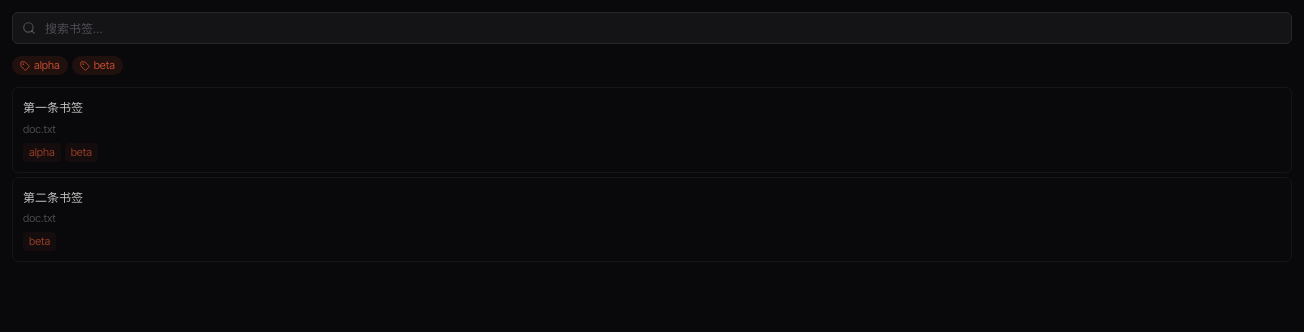
Test: BookmarkPanel › opens the editor from the context menu gesture
This screenshot has width=1304, height=332.
Right-click the text "第一条书签": (53, 108) [23,100,83,115]
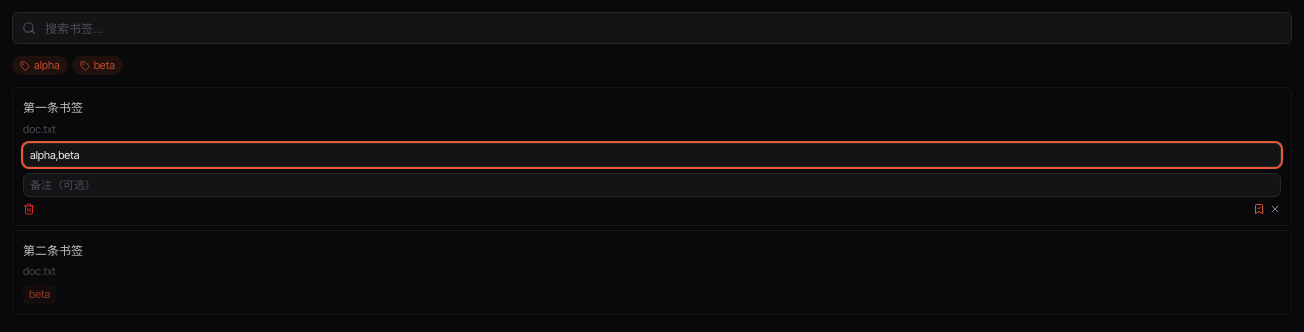
Now the field with placeholder "逗号分隔标签" is shown, box [23,142,1281,166]
Now the field with placeholder "备注（可选）" is shown, box [23,172,1281,196]
